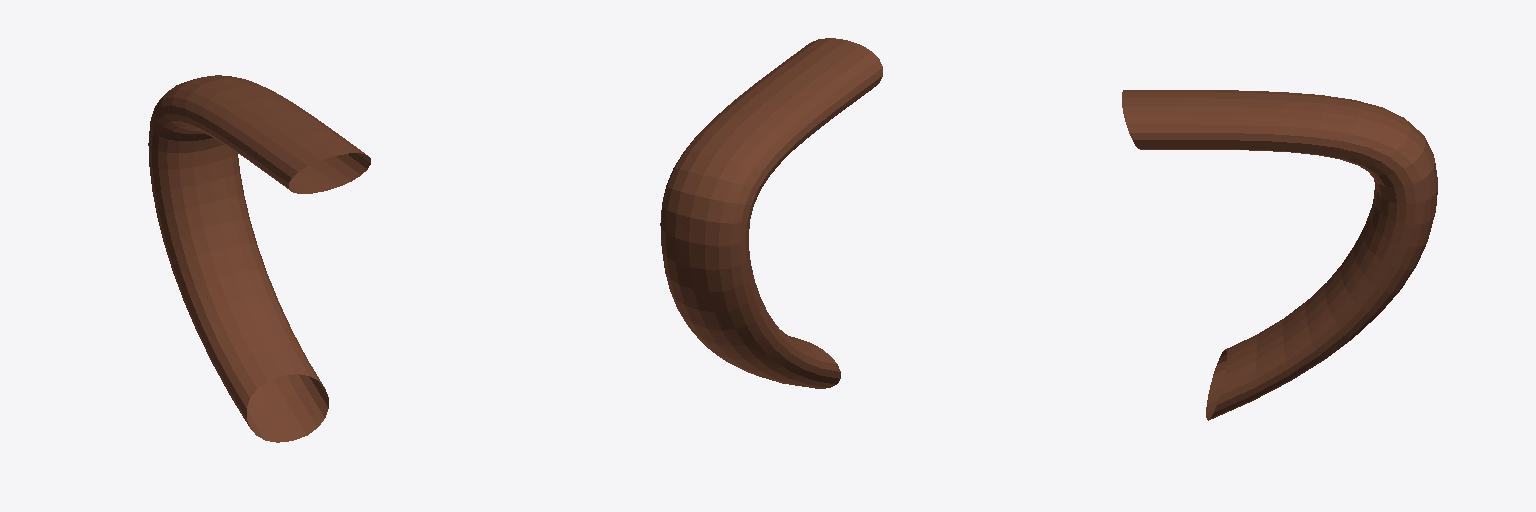
The model's file is original-2.obj.
3 views of the same model, side by side, from view 1: azimuth 30°, elevation 25°; view 2: azimuth 150°, elevation 25°; view 3: azimuth 270°, elevation 25° (orthographic).
Visible parts, largest first — view 1: mesh3/mesh3-geometry#mesh3-geometry; view 2: mesh3/mesh3-geometry#mesh3-geometry; view 3: mesh3/mesh3-geometry#mesh3-geometry.
Boxes of the visible parts, <box> form: mesh3/mesh3-geometry#mesh3-geometry: <box>148,75,370,442</box>; mesh3/mesh3-geometry#mesh3-geometry: <box>660,38,882,388</box>; mesh3/mesh3-geometry#mesh3-geometry: <box>1122,90,1437,420</box>.
Size of the model in its own units: 0.1343 by 0.4925 by 0.4477.